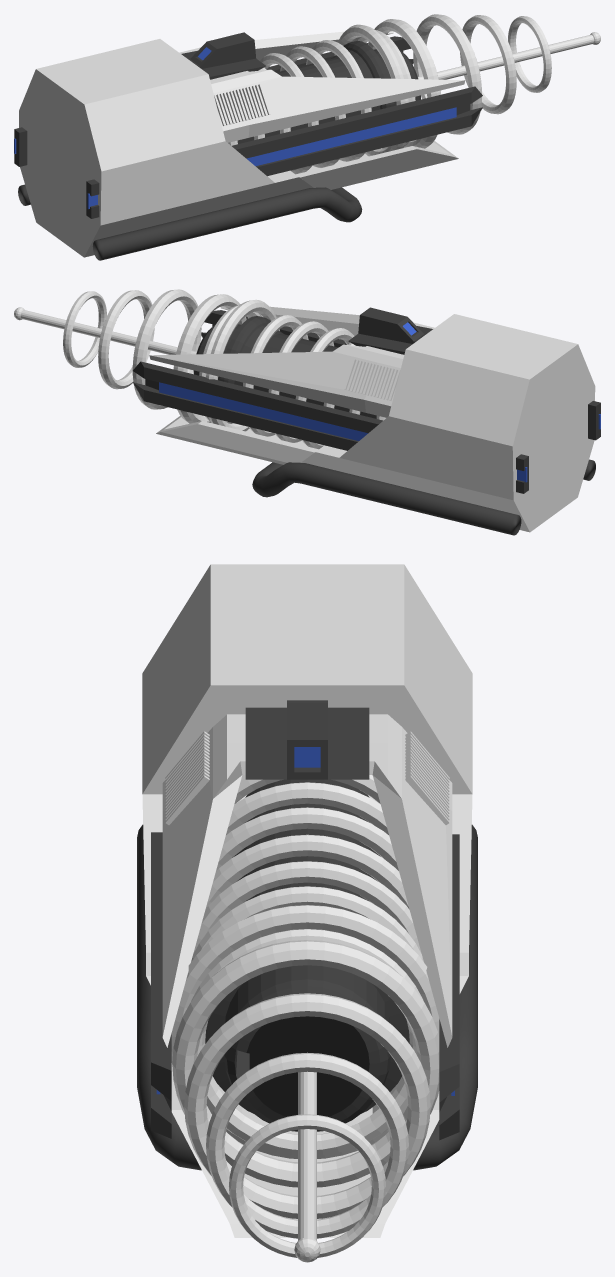
3 renders of one model, top to bottom at view 1: azimuth 30°, elevation 25°; view 2: azimuth 150°, elevation 25°; view 3: azimuth 270°, elevation 25°, orthographic. The views are drawn at different scales.
Visible parts, largest first — view 1: 立方体.004, 立方体, Torus.011, 立方体.008, 柱体.003, 立方体.001, 柱体.001, 立方体.007, 立方体.005, 柱体; view 2: 立方体.004, Torus.011, 立方体, 立方体.008, 柱体.003, 立方体.001, 立方体.007, 柱体.001, 立方体.005, 柱体; view 3: Torus.011, 立方体.004, 立方体, 柱体.001, 柱体.003, 立方体.005, 立方体.008, 立方体.001, 柱体.
Part boxes in pixels (x1,y1,x2,y2): 立方体.004: [19, 39, 313, 257]; 立方体: [179, 28, 465, 142]; Torus.011: [228, 14, 551, 174]; 立方体.008: [14, 36, 482, 218]; 柱体.003: [18, 184, 362, 260]; 立方体.001: [296, 141, 458, 189]; 柱体.001: [237, 40, 420, 143]; 立方体.007: [14, 107, 456, 208]; 立方体.005: [181, 32, 265, 79]; 柱体: [418, 32, 600, 79]; 立方体.004: [301, 314, 595, 532]; Torus.011: [63, 289, 385, 449]; 立方体: [149, 304, 434, 417]; 立方体.008: [133, 310, 600, 493]; 柱体.003: [252, 459, 595, 535]; 立方体.001: [156, 415, 318, 464]; 立方体.007: [159, 382, 600, 482]; 柱体.001: [193, 316, 376, 418]; 立方体.005: [348, 307, 432, 354]; 柱体: [14, 307, 196, 354]; Torus.011: [171, 775, 439, 1257]; 立方体.004: [142, 564, 472, 993]; 立方体: [162, 714, 452, 1047]; 柱体.001: [205, 779, 409, 1131]; 柱体.003: [137, 824, 477, 1170]; 立方体.005: [245, 700, 369, 779]; 立方体.008: [151, 832, 459, 1140]; 立方体.001: [171, 1063, 439, 1237]; 柱体: [294, 1071, 320, 1262].
Bounding box in the file's own units: 596 × 185 × 160.
